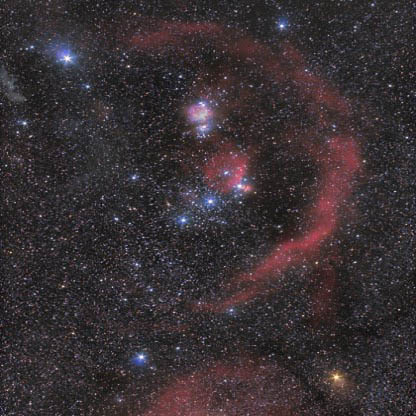Orion: (315, 357, 352, 399), (44, 40, 82, 76), (125, 345, 162, 374), (199, 190, 226, 222), (171, 213, 198, 239), (229, 172, 250, 205), (265, 14, 290, 39)
